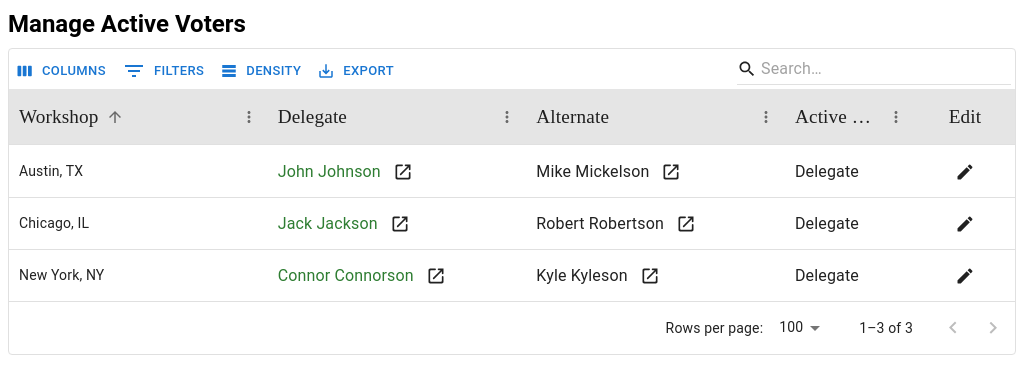
Scenario: Successfully alerts when workshop id is not provided
Click the menu item with test id "edit-active-voter-1": (965, 172) left=950, top=156, right=980, bottom=186
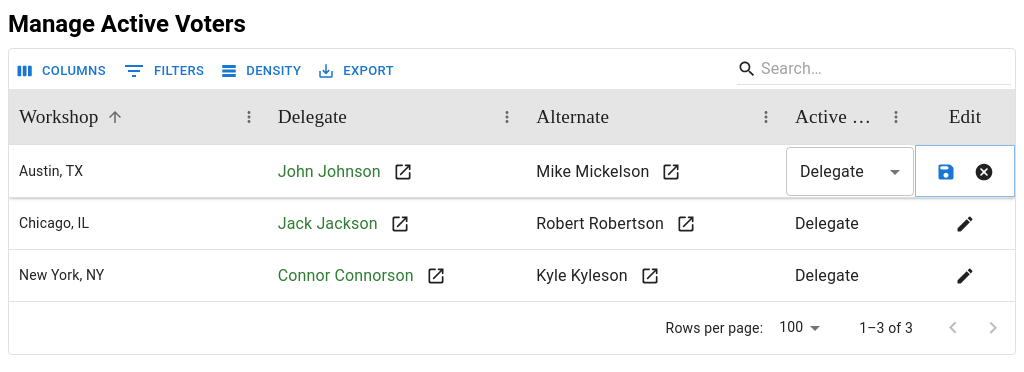
Click the menu item with test id "save-active-voter-1": (946, 172) left=931, top=156, right=961, bottom=186
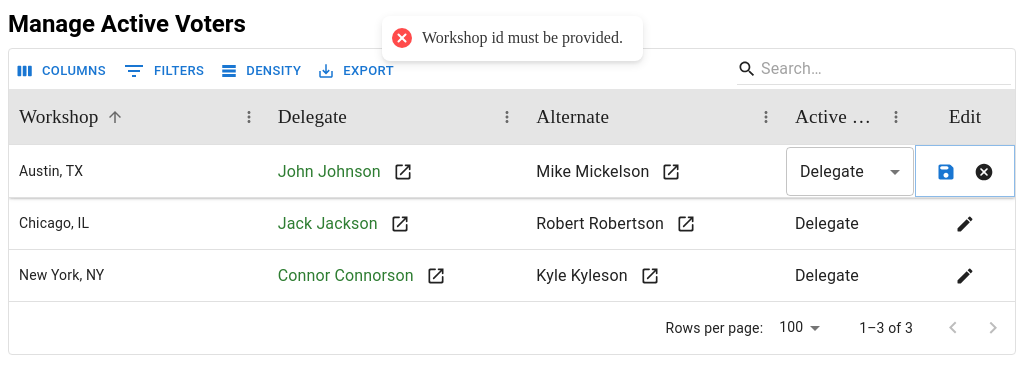
Expected: the text "Workshop id must be provided." is shown, left=422, top=28, right=622, bottom=49
